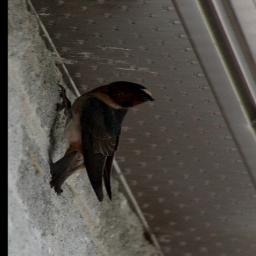Swallow: (46, 81, 155, 202)
